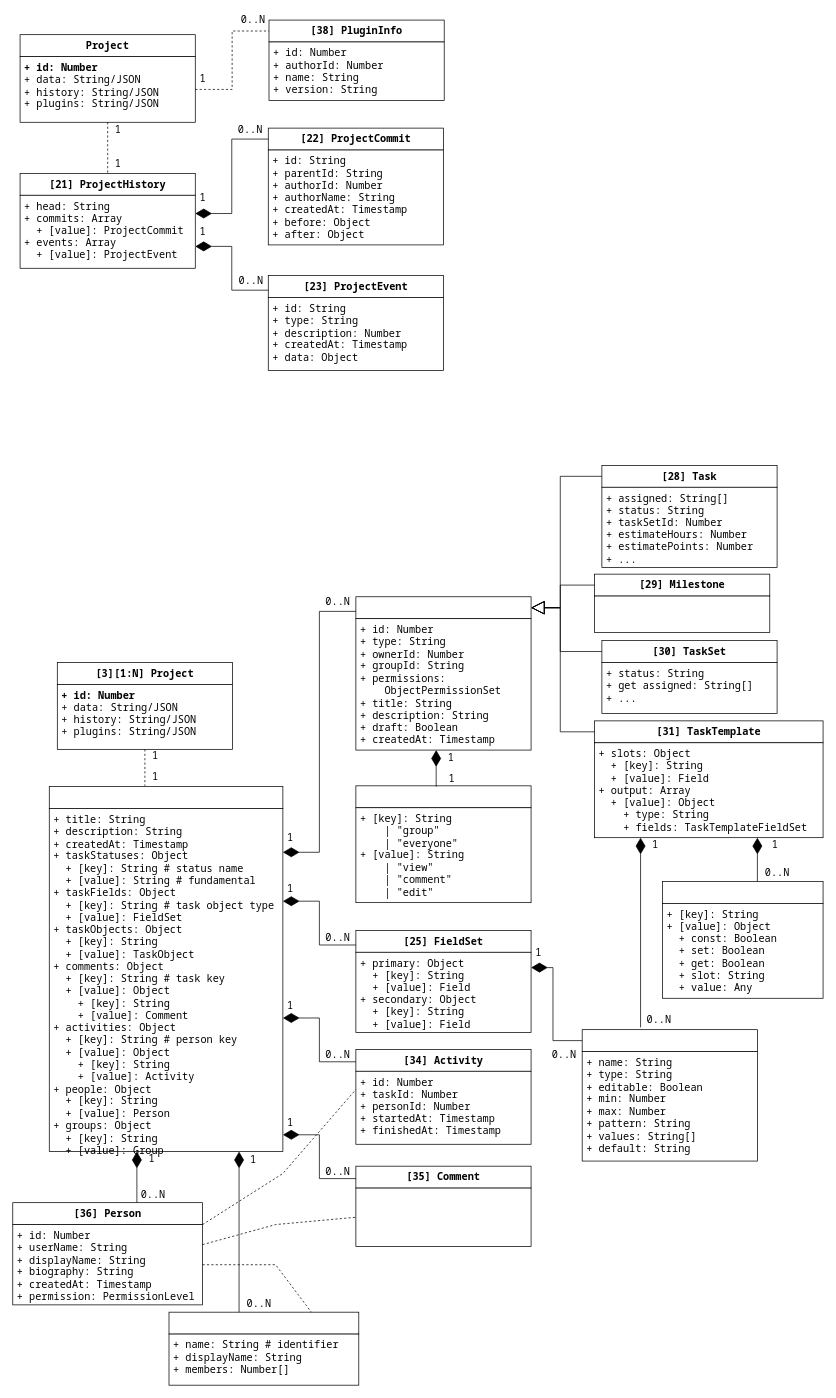
Image size: 836x1398. Some labels were removed from this diagram. Each missing label, with the centre of its shape:
+ deadlineAt: Timestamp + ...: point 682,614
+ id: Number + createdAt: Timestamp + authorId: Number + text: String: point 443,1216
[24] ProjectData: point 166,797
[26] Field: point 669,1040
[27] TaskObject: point 443,607
[32] TaskTemplateFieldSet: point 742,892
[33] ObjectPermissionSet: point 443,796
[37] Group: point 263,1322
